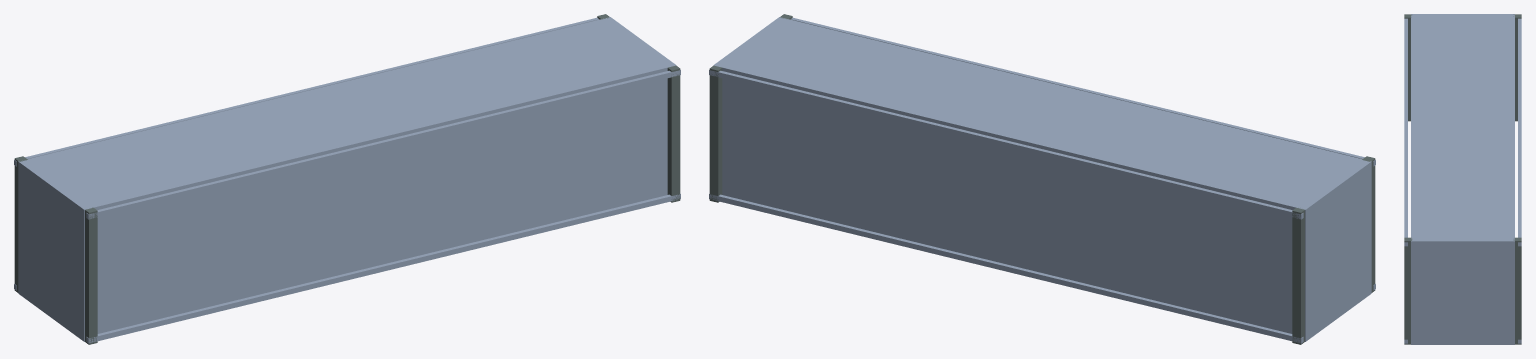
3 views of the same model, side by side, from view 1: azimuth 30°, elevation 25°; view 2: azimuth 150°, elevation 25°; view 3: azimuth 270°, elevation 25° (orthographic). The views are drawn at different scales.
Bounding box in the file's own units: 12.2 × 2.6 × 2.66.
